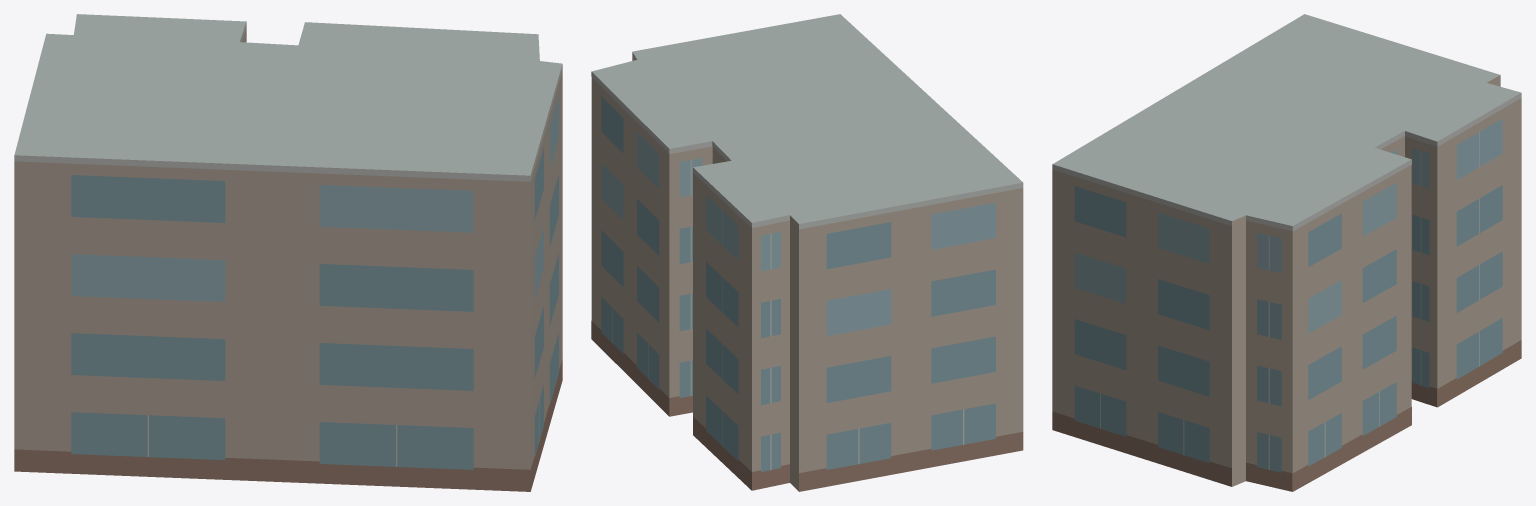
File: survey-upis-32866000.glb
3 views of the same model, side by side, from view 1: azimuth 30°, elevation 25°; view 2: azimuth 150°, elevation 25°; view 3: azimuth 270°, elevation 25° (orthographic). The views are drawn at different scales.
Visible parts, largest first — view 1: survey-upis-32866000.tmp; view 2: survey-upis-32866000.tmp; view 3: survey-upis-32866000.tmp.
Boxes of the visible parts, x1,y1,x2,y2 form: survey-upis-32866000.tmp: [14, 14, 562, 491]; survey-upis-32866000.tmp: [591, 14, 1023, 491]; survey-upis-32866000.tmp: [1052, 14, 1521, 491].
Bounding box in the file's own units: 21.4 × 12.5 × 20.
